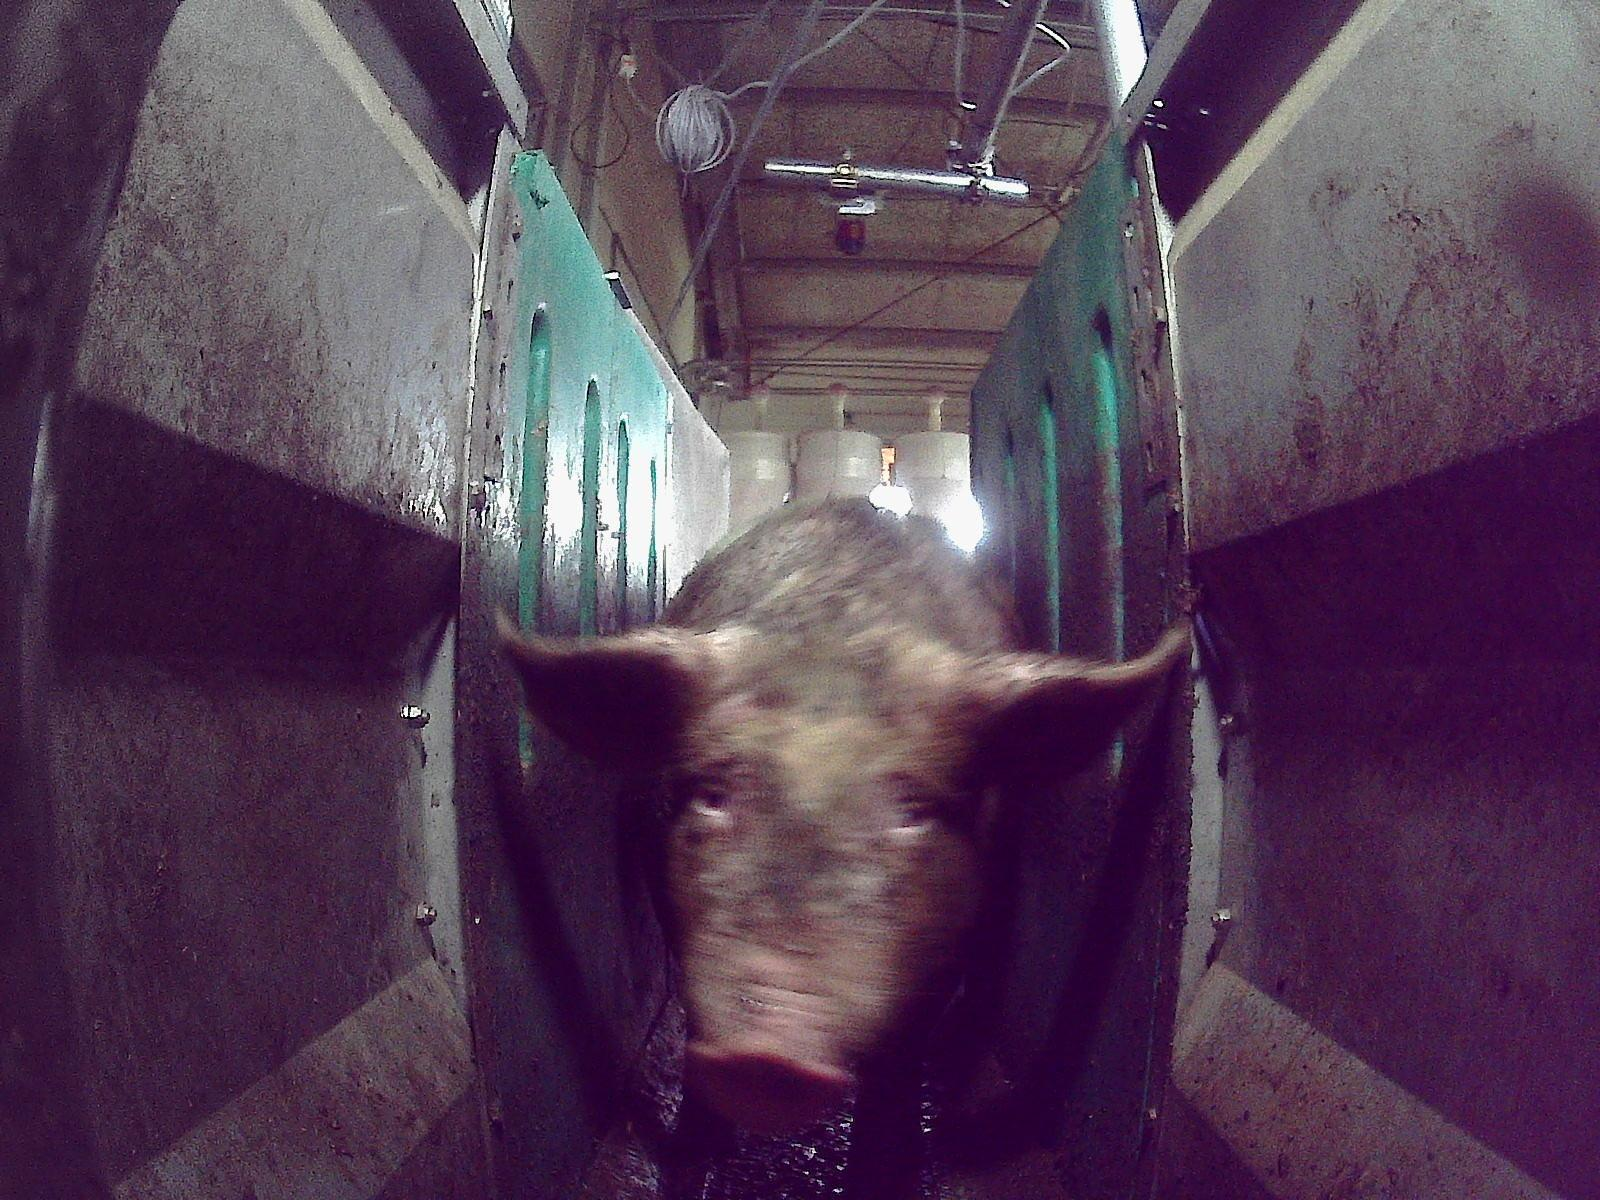Face: (659, 638, 970, 1133)
